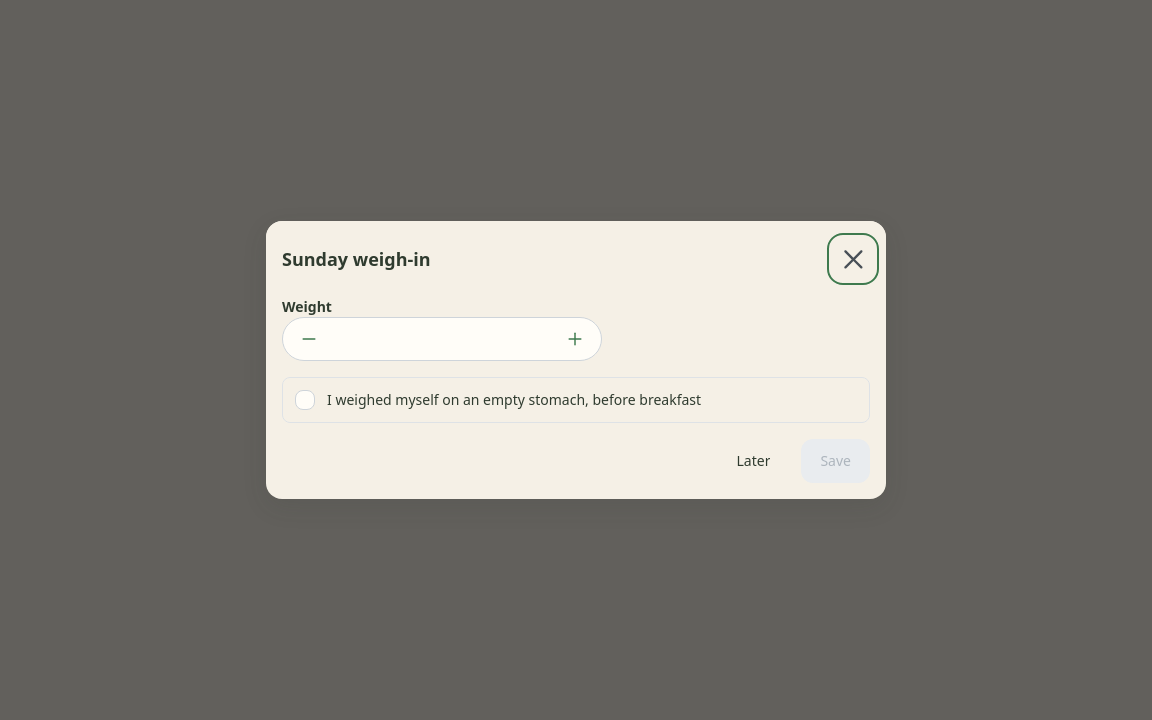
F2-18 WeighInDialog › RF-05 explains a weight out of range instead of saving it
Type "7" into the field labelled "Weight" at {"x": 442, "y": 339}, box [282,317,602,361]
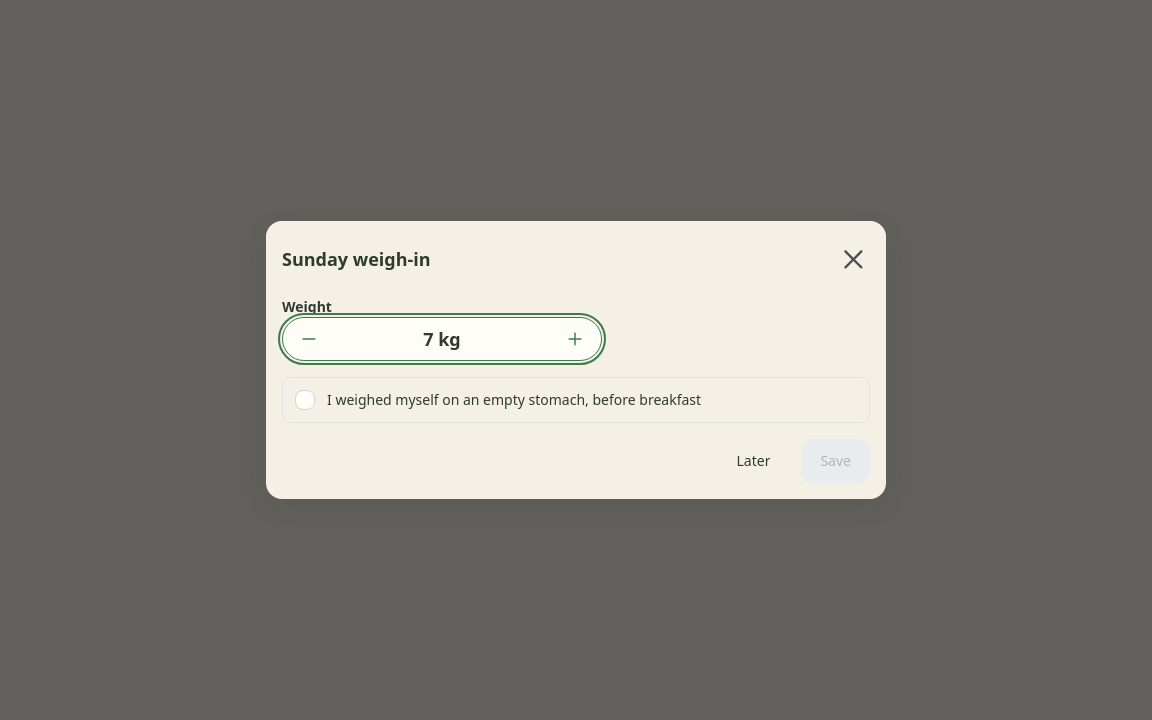
Click the checkbox labelled "I weighed myself on an empty stomach, before breakfast" at {"x": 576, "y": 400}, box [282,377,870,423]
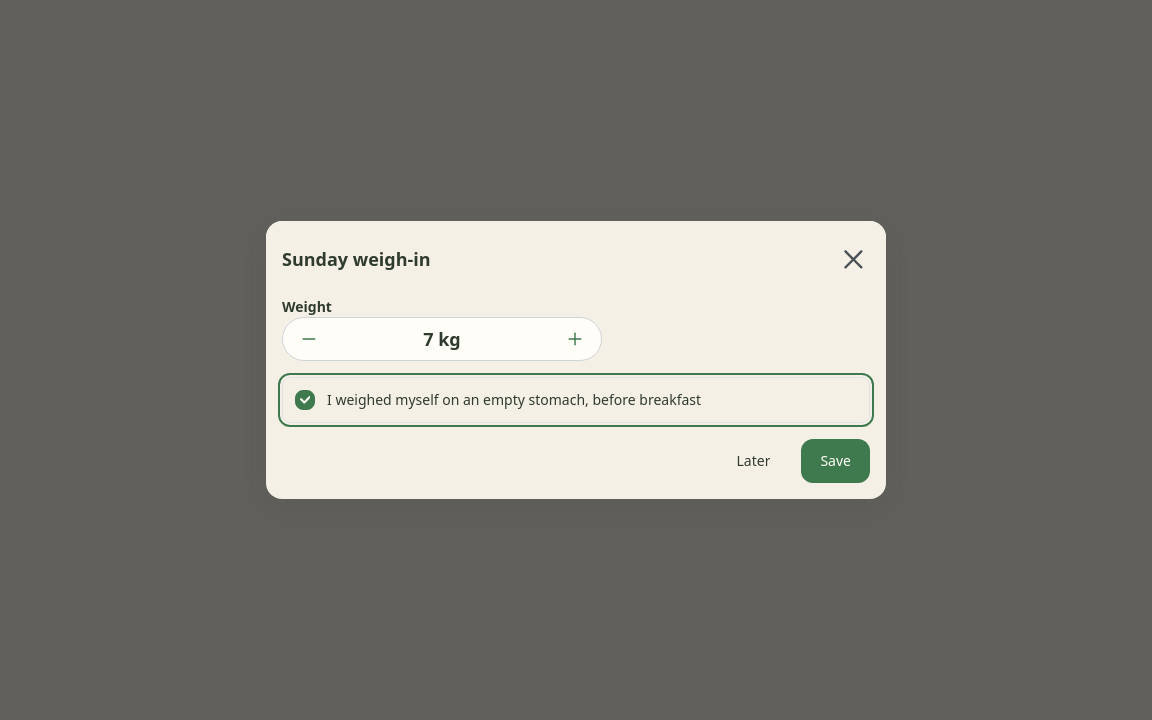
Click the button "Save" at {"x": 836, "y": 461}, box [801,439,870,483]
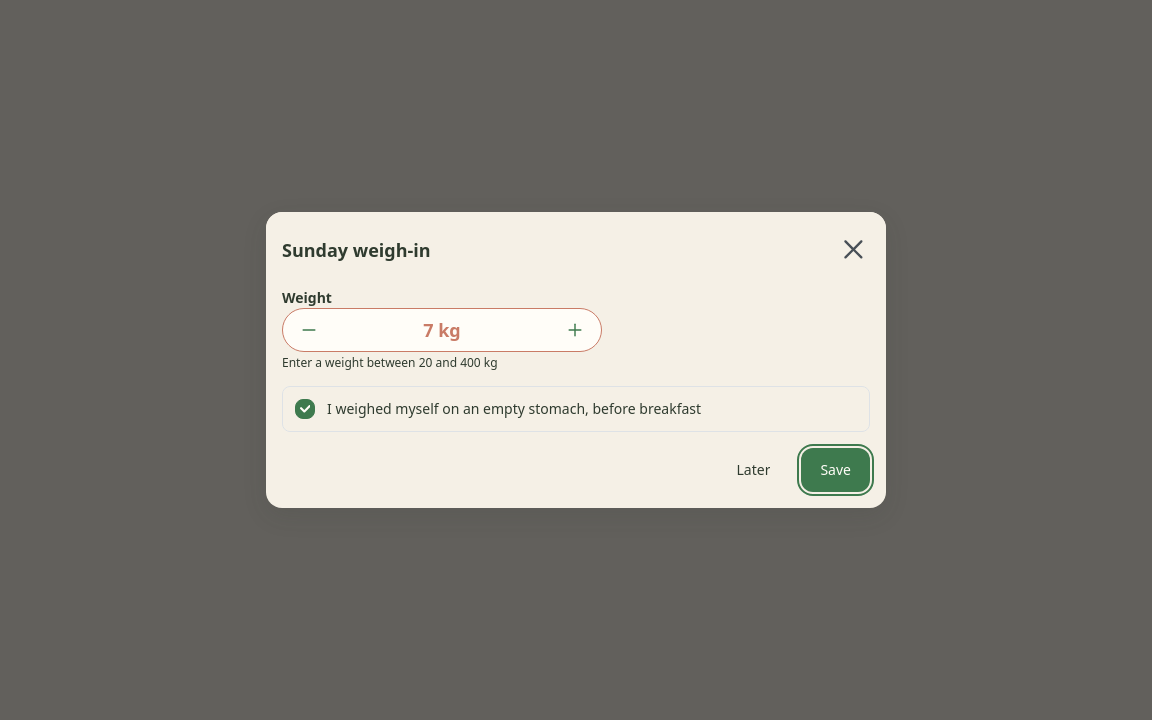
Now the message reads "Enter a weight between 20 and 400 kg", box [282,354,498,371]
